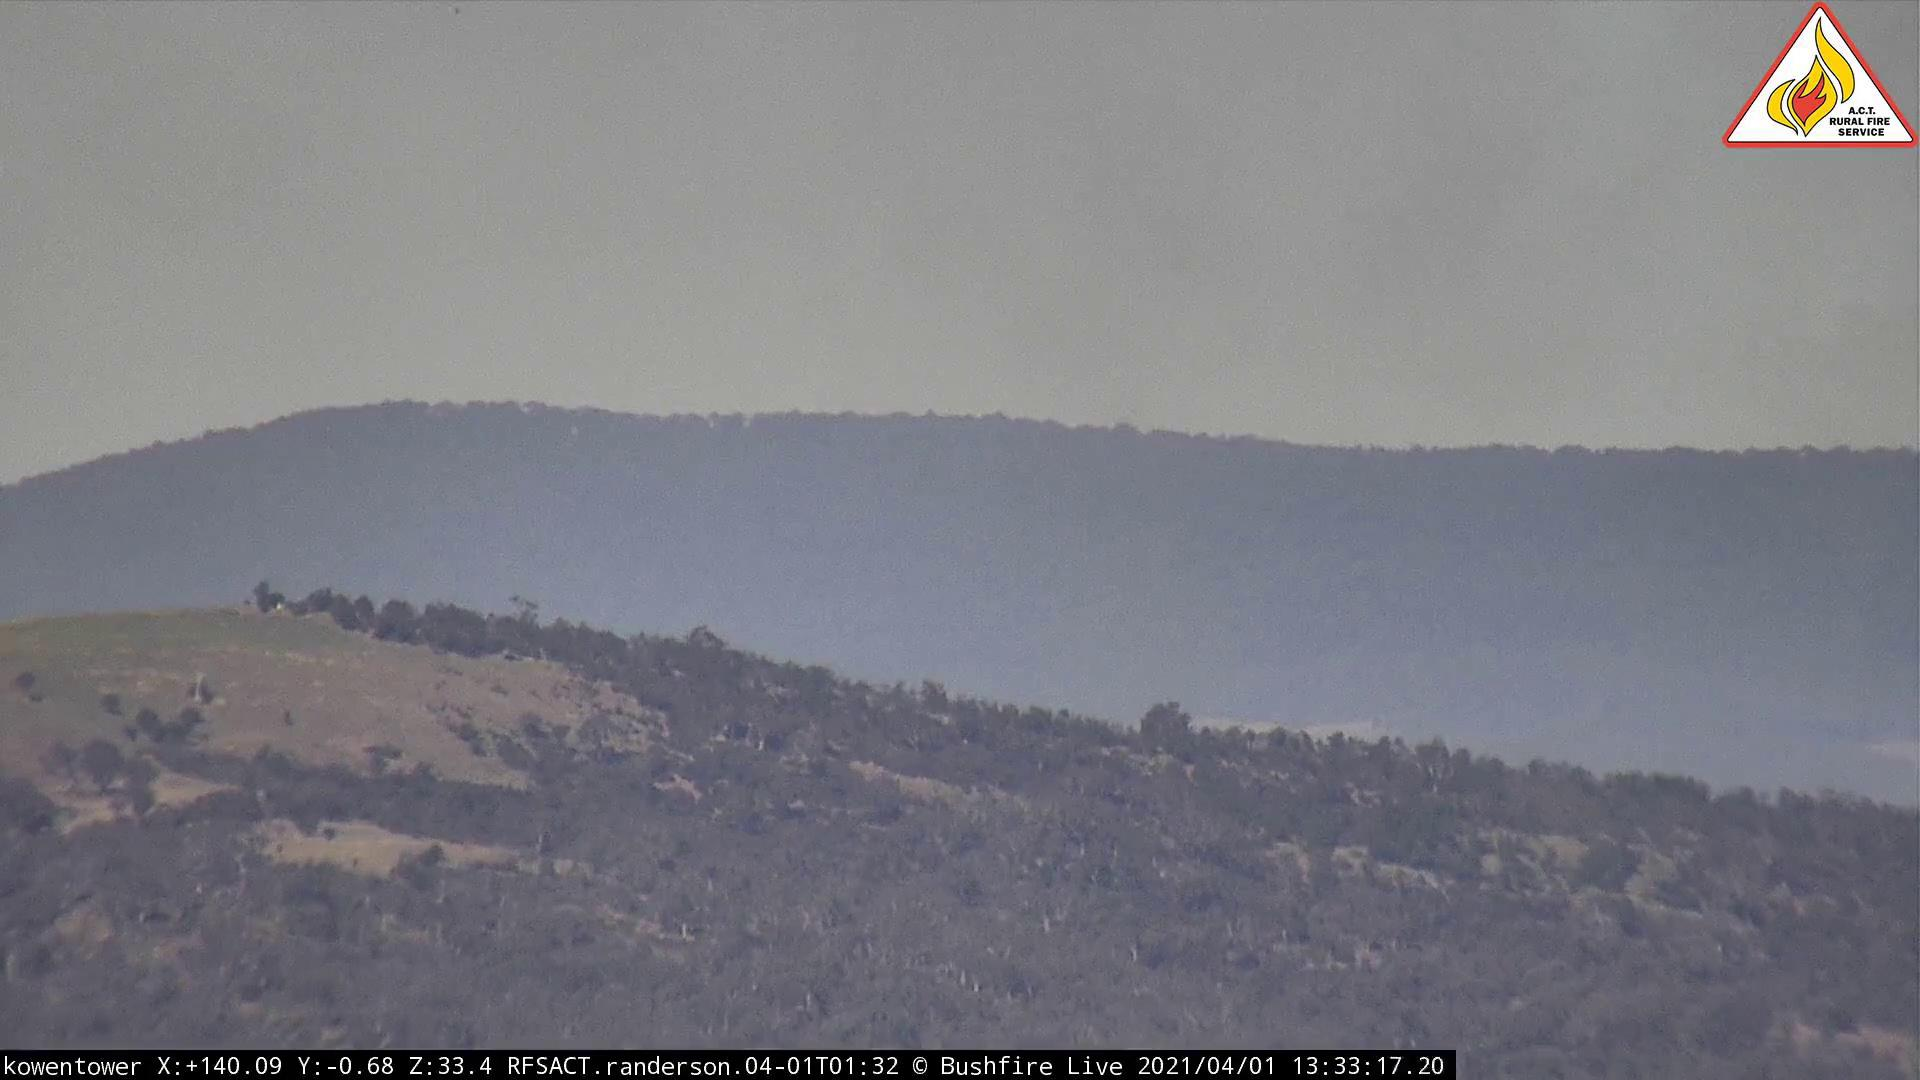Smoke: (1625, 218, 1920, 454)
